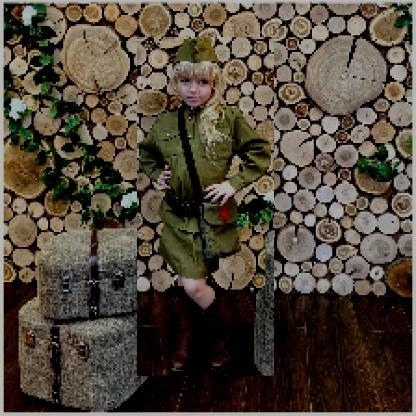child: (138, 38, 276, 378)
